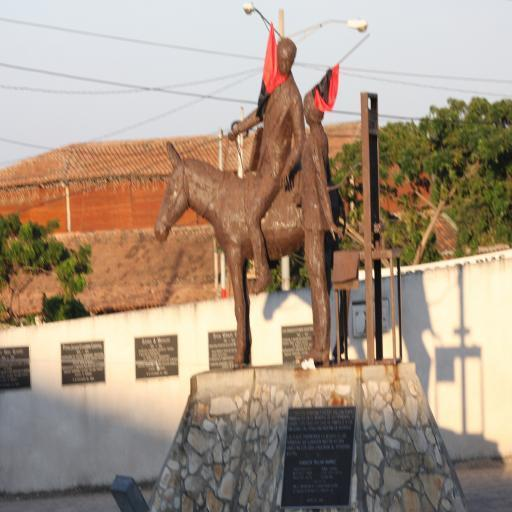horse: (153, 139, 348, 368)
